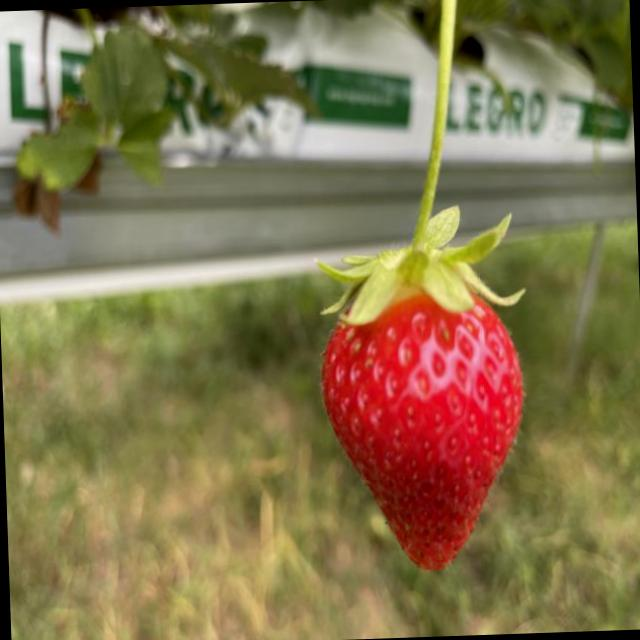stem: (320, 0, 522, 324)
strawberryR: (322, 295, 522, 568)
